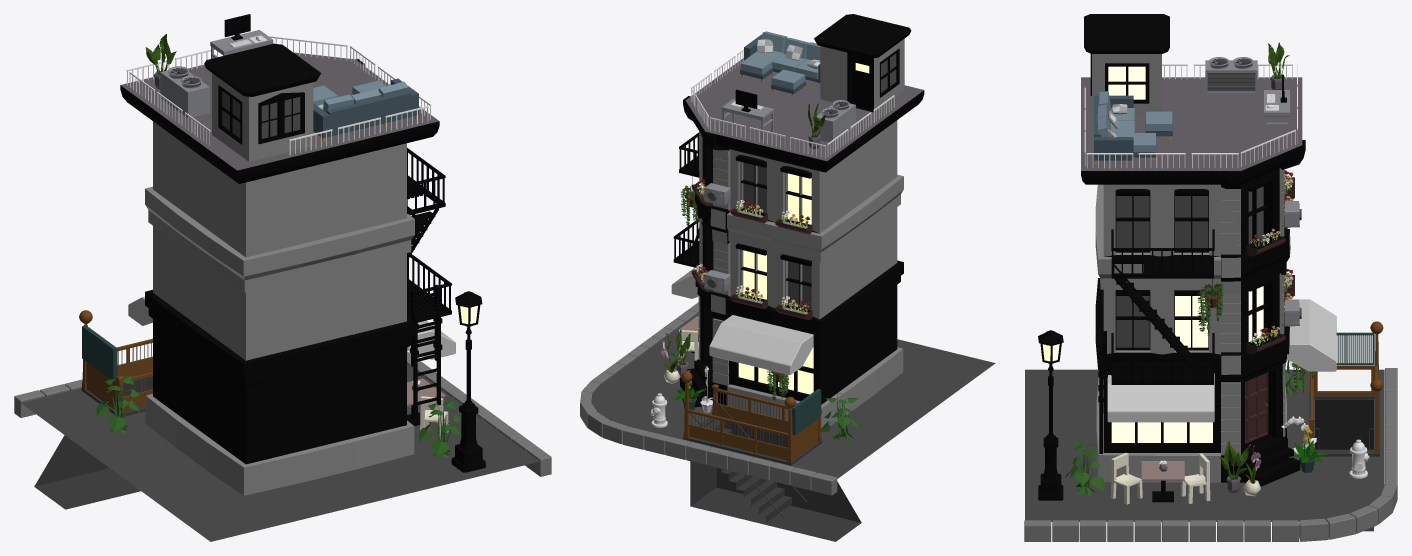
3 views of the same model, side by side, from view 1: azimuth 30°, elevation 25°; view 2: azimuth 150°, elevation 25°; view 3: azimuth 270°, elevation 25° (orthographic). The views are drawn at different scales.
Parts seen in each view (by area): view 1: building, Plane, cielingBuilding, Plane.006, couch, Plane.001, deck001, Cube.004, cielinVernt00.001, Plane.013, deckrailing00.002, Cube.005 (+12 smaller); view 2: building, Plane, cielingBuilding, Plane.001, Plane.006, cover.001, Plane.013, couch, building.001, Plane.005, cover.006, group1646369301.006 (+11 smaller); view 3: building, Plane, Plane.001, cielingBuilding, deck001, building.001, cover.004, couch, Plane.006, cover.001, door, Cube.004 (+24 smaller).
Part boxes in pixels (x1,y1,x2,y2): building: (120,52,439,495); Plane: (21,364,539,541); cielingBuilding: (204,43,320,161); Plane.006: (34,376,152,509); couch: (313,78,418,141); Plane.001: (14,351,551,476); deck001: (407,148,451,322); Cube.004: (451,326,485,472); cielinVernt00.001: (160,66,209,118); Plane.013: (79,310,152,414); deckrailing00.002: (413,306,440,410); Cube.005: (82,325,117,381); building: (680,58,924,428); Plane: (591,313,995,478); cielingBuilding: (814,14,911,112); Plane.001: (580,302,837,495); Plane.006: (690,421,861,541); cover.001: (709,315,813,374); Plane.013: (681,371,822,462); couch: (740,31,820,96); building.001: (698,131,729,385); Plane.005: (706,419,791,522); cover.006: (691,183,812,319); group1646369301.006: (695,179,809,313); building: (1081,77,1305,486); Plane: (1025,369,1384,521); Plane.001: (1024,368,1397,541); cielingBuilding: (1084,14,1169,115); deck001: (1111,229,1214,384); building.001: (1221,169,1285,455); cover.004: (1107,373,1214,422); couch: (1094,91,1172,164); Plane.006: (1315,399,1373,531); cover.001: (1287,299,1336,371); door: (1245,372,1268,443); Cube.004: (1038,364,1063,500).
Bounding box in the file's own units: 12.71 × 17.44 × 12.71.
